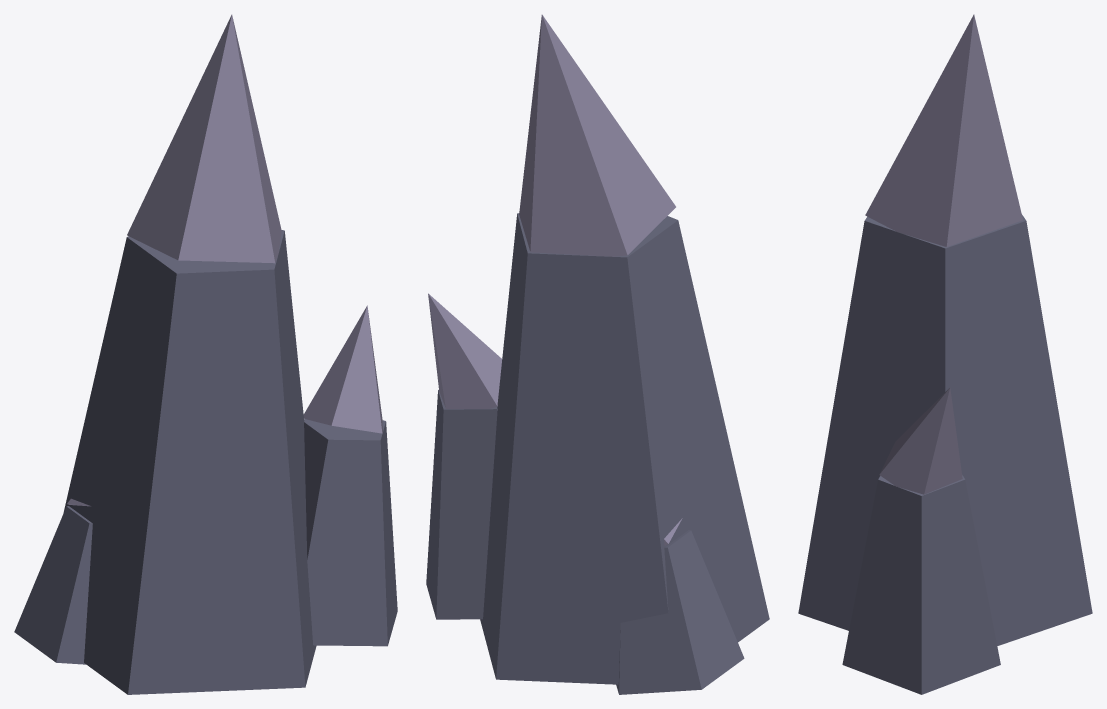
Rendered from obsidian_spike.glb.
The picture shows the model from 3 angles, left to right: view 1: azimuth 30°, elevation 25°; view 2: azimuth 150°, elevation 25°; view 3: azimuth 270°, elevation 25°; orthographic projection.
Visible parts, largest first — view 1: obsidian_spike; view 2: obsidian_spike; view 3: obsidian_spike.
Boxes of the visible parts, x1,y1,x2,y2 form: obsidian_spike: (14, 14, 397, 694); obsidian_spike: (426, 14, 769, 694); obsidian_spike: (798, 14, 1092, 694).
Size of the model in its own units: 1.59 by 2.85 by 1.24.
